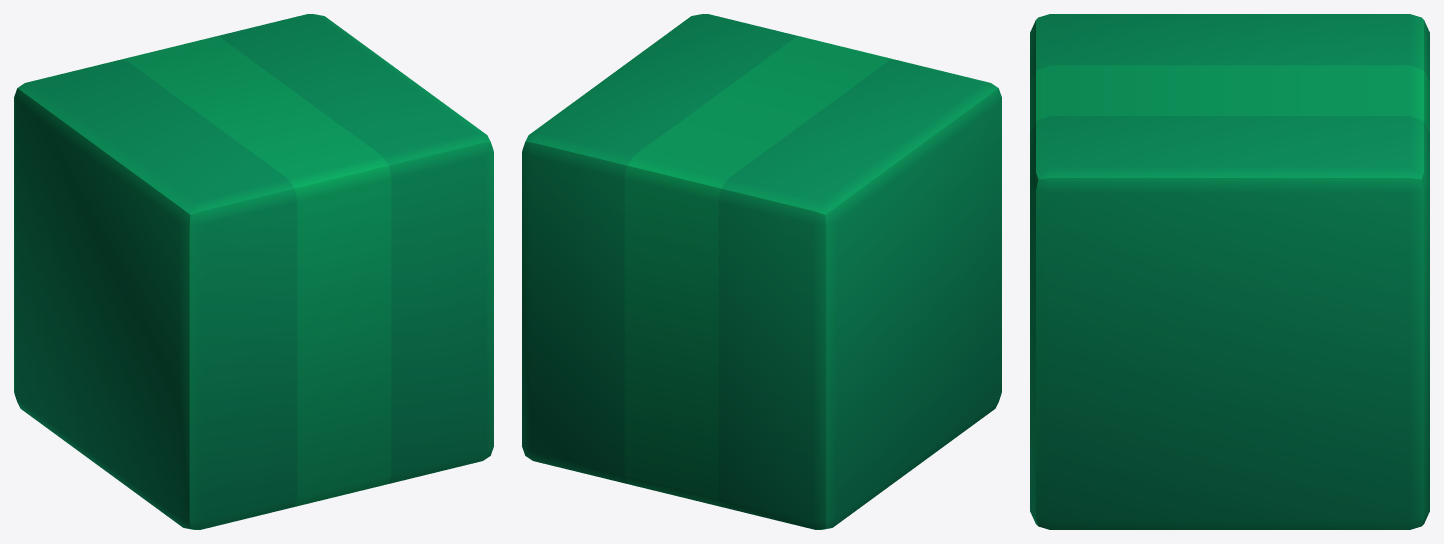
The model's file is striped-block-green.glb.
3 views of the same model, side by side, from view 1: azimuth 30°, elevation 25°; view 2: azimuth 150°, elevation 25°; view 3: azimuth 270°, elevation 25° (orthographic). The views are drawn at different scales.
Visible parts, largest first — view 1: striped_block_green; view 2: striped_block_green; view 3: striped_block_green.
Boxes of the visible parts, x1=… form: striped_block_green: x1=14, y1=14, x2=493, y2=529; striped_block_green: x1=522, y1=14, x2=1001, y2=529; striped_block_green: x1=1030, y1=14, x2=1429, y2=529.
Bounding box in the file's own units: 2 × 2 × 2.
1 material, 1 textured.
